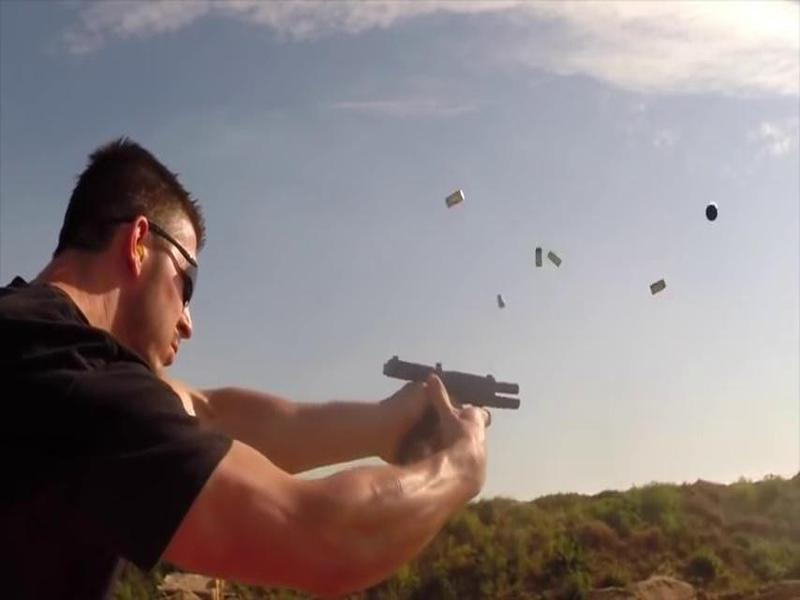Pistola: (353, 340, 546, 455)
